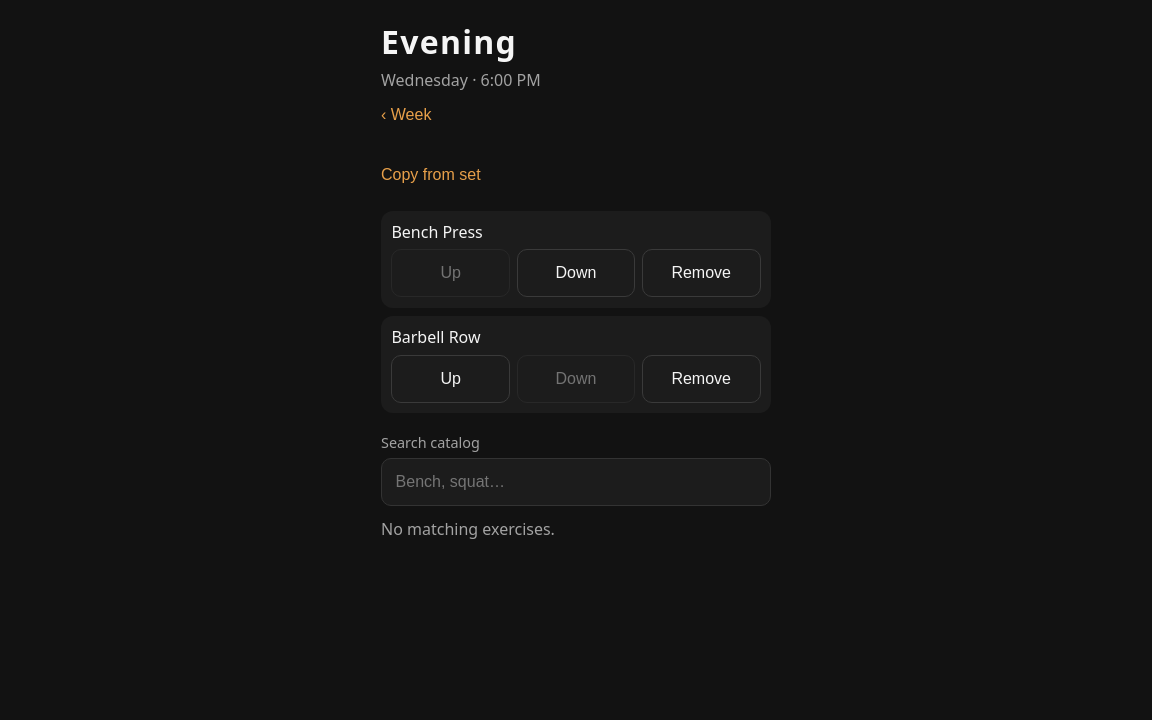
Test: SetExerciseEditorPage › copies exercises from another set onto the current set
Step 1. Click the button "Copy from set" → coordinates (431, 175), box [381, 151, 481, 199]
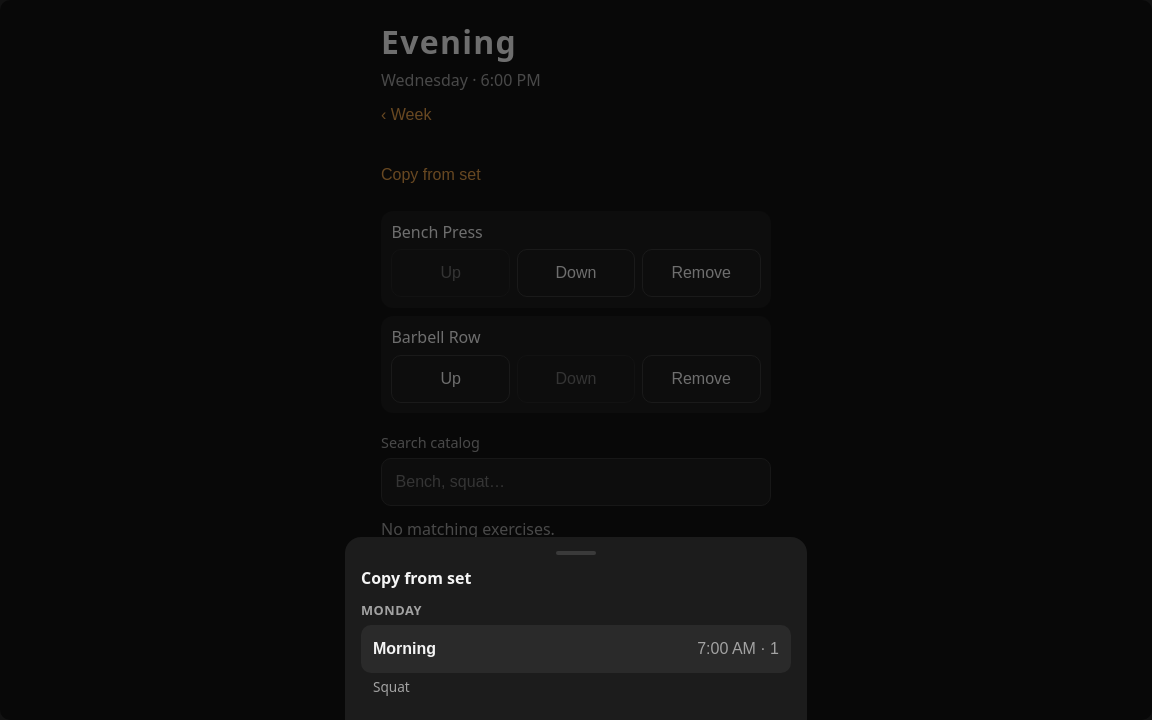
Now the element with test id "copy-set-sheet" is shown
Step 2. Click the button "Morning 7:00 AM · 1" → coordinates (405, 648), box [361, 625, 791, 673]
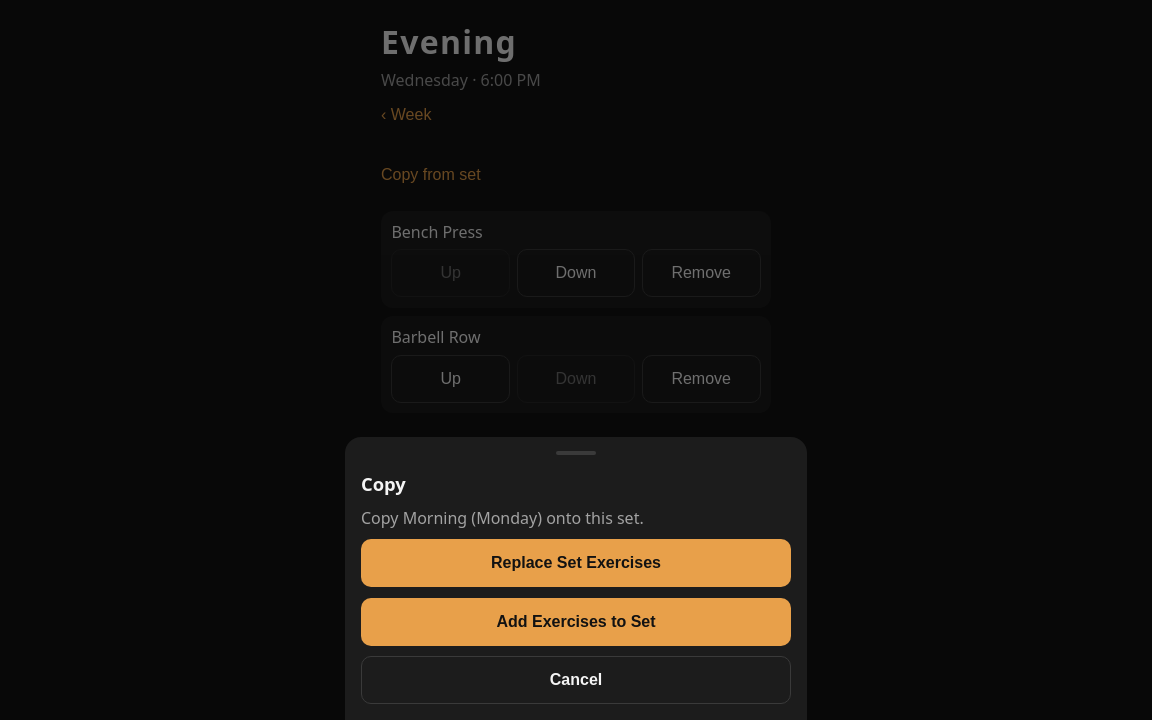
Now the dialog "Copy" is shown, box [345, 437, 807, 719]
Now the element with test id "confirm-sheet" is shown
Now the button "Add Exercises to Set" is shown, box [361, 598, 791, 646]
Step 3. Click the button "Replace Set Exercises" → coordinates (576, 563), box [361, 539, 791, 587]
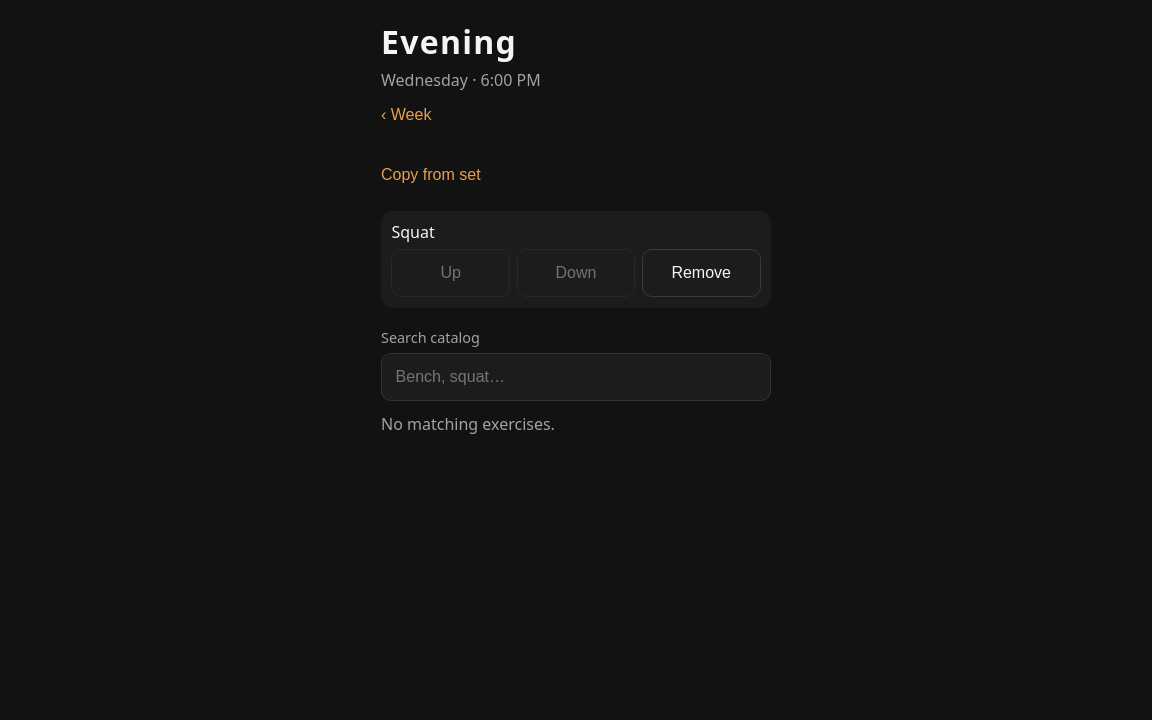
Now the text "Squat" is shown, box [391, 221, 435, 243]
